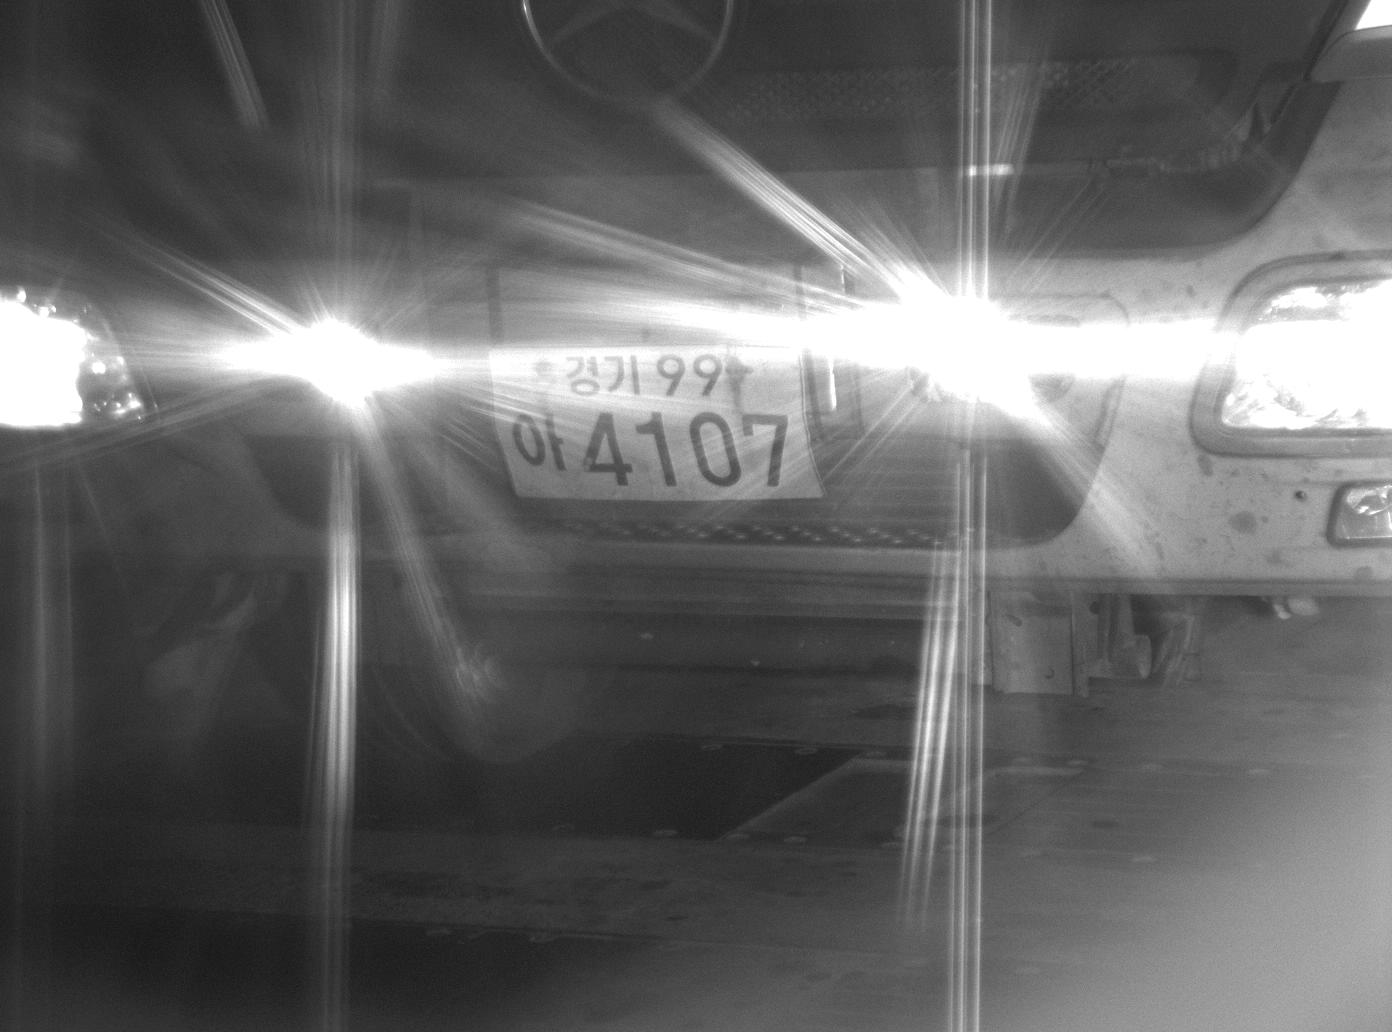car: (1, 1, 1389, 784)
plate: (484, 342, 825, 504)
